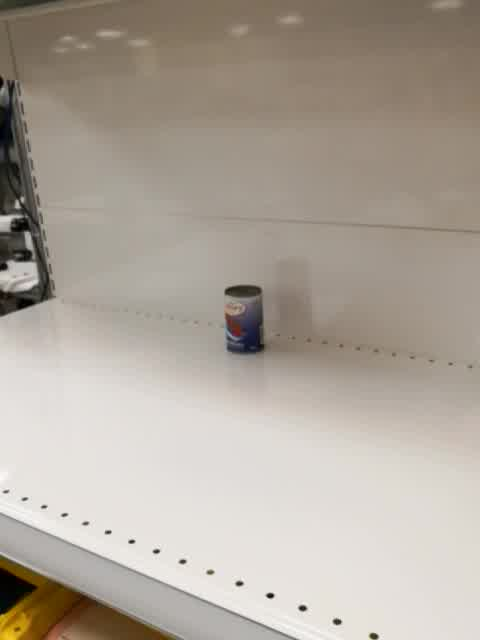sardine: (223, 284, 266, 356)
